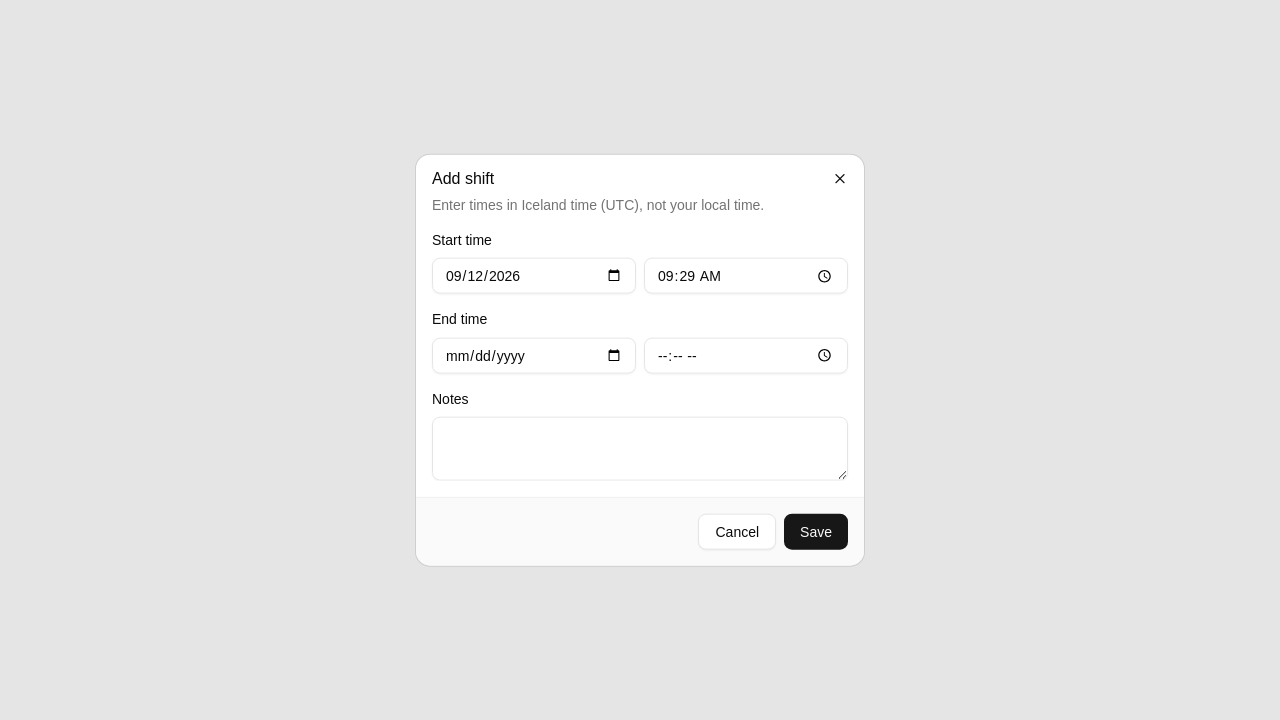
Test case: ShiftForm › prefills the end DATE from the start, leaving the clock to be typed
Type "2026-08-04" into the date field named "Start time — date" at (534, 276), box x1=432 y1=258 x2=636 y2=294
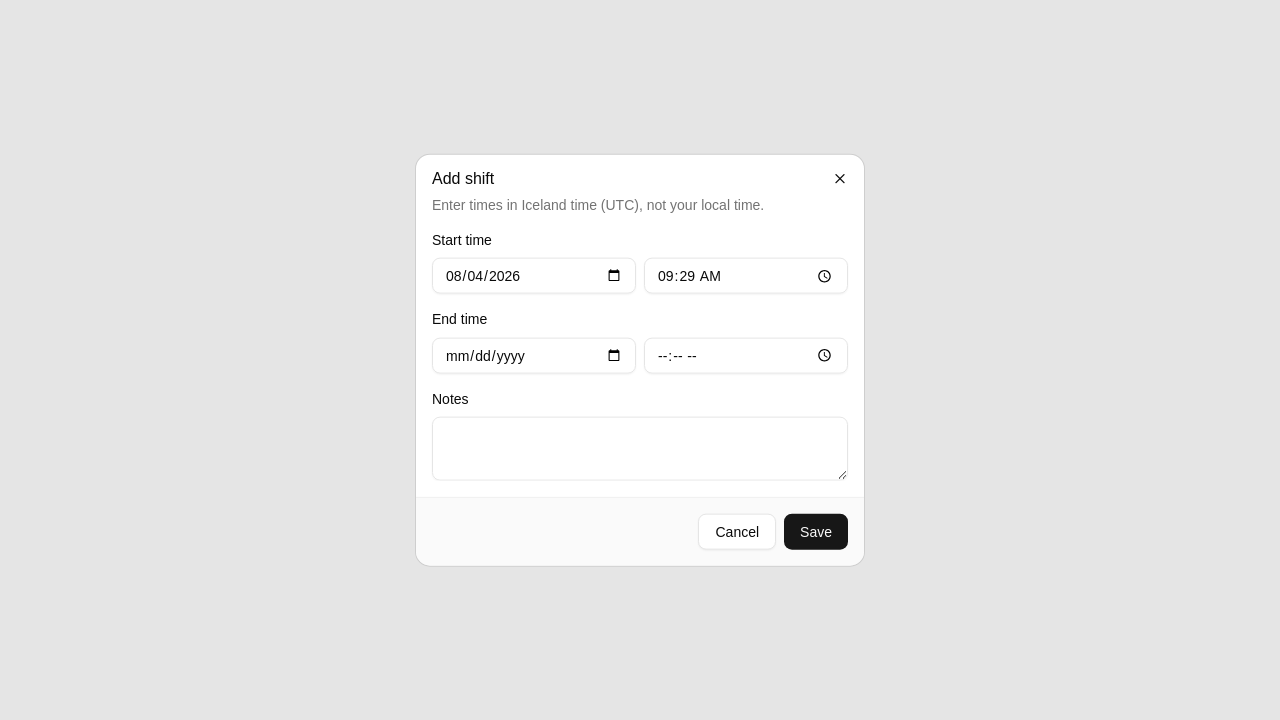
Leave the date field named "Start time — date", box x1=432 y1=258 x2=636 y2=294
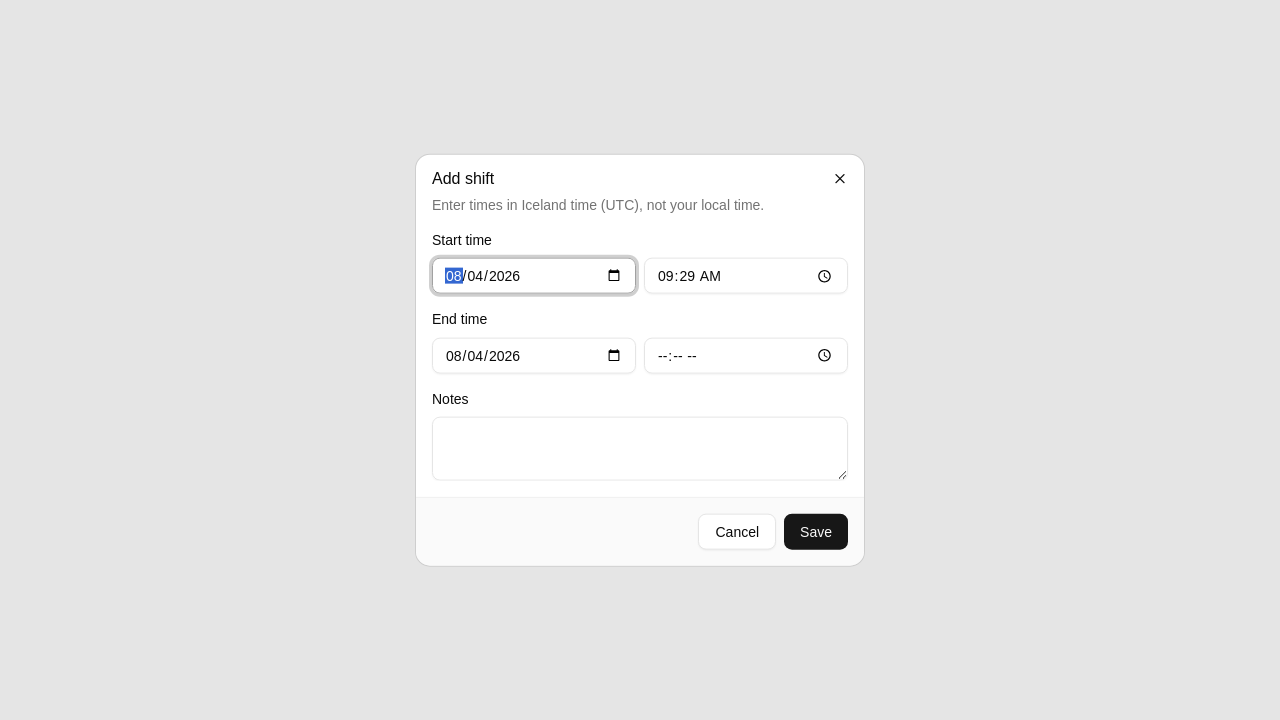
Expected: the time field named "End time — time" is empty, x1=644 y1=337 x2=848 y2=373
Now the date field named "End time — date" holds "2026-08-04", box x1=432 y1=337 x2=636 y2=373
